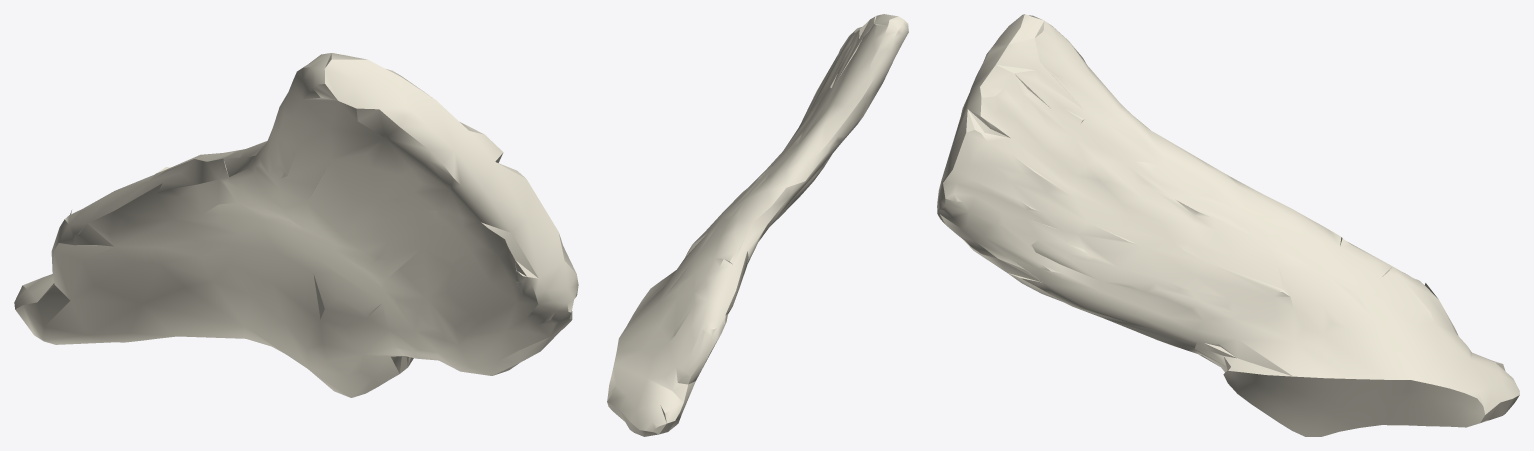
The model's file is fma44238_mm1366.glb.
The picture shows the model from 3 angles, left to right: view 1: azimuth 30°, elevation 25°; view 2: azimuth 150°, elevation 25°; view 3: azimuth 270°, elevation 25°; orthographic projection. The views are drawn at different scales.
Parts seen in each view (by area): view 1: FMA44238_MM1366; view 2: FMA44238_MM1366; view 3: FMA44238_MM1366.
Boxes of the visible parts, x1,y1,x2,y2 form: FMA44238_MM1366: (14,53,578,397); FMA44238_MM1366: (607,14,908,436); FMA44238_MM1366: (937,14,1519,436).
Bounding box in the file's own units: 0.00767 × 0.0144 × 0.0212.
